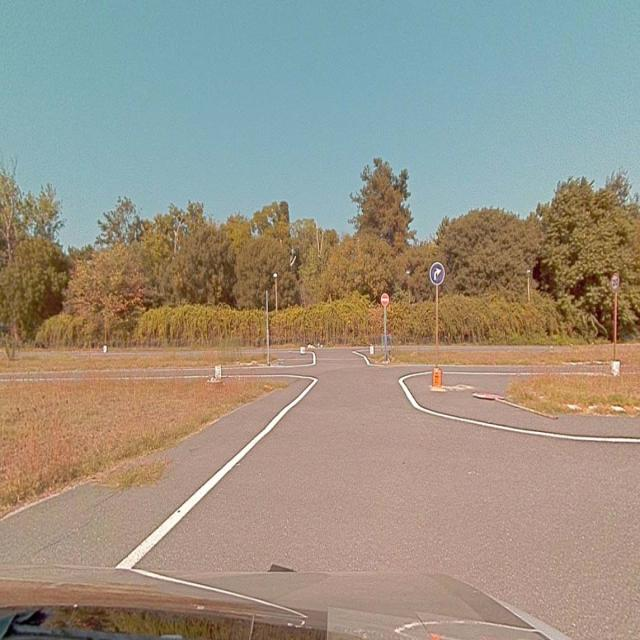20: (611, 273, 619, 291)
girisyok: (380, 293, 389, 307)
sag: (430, 262, 444, 284)
